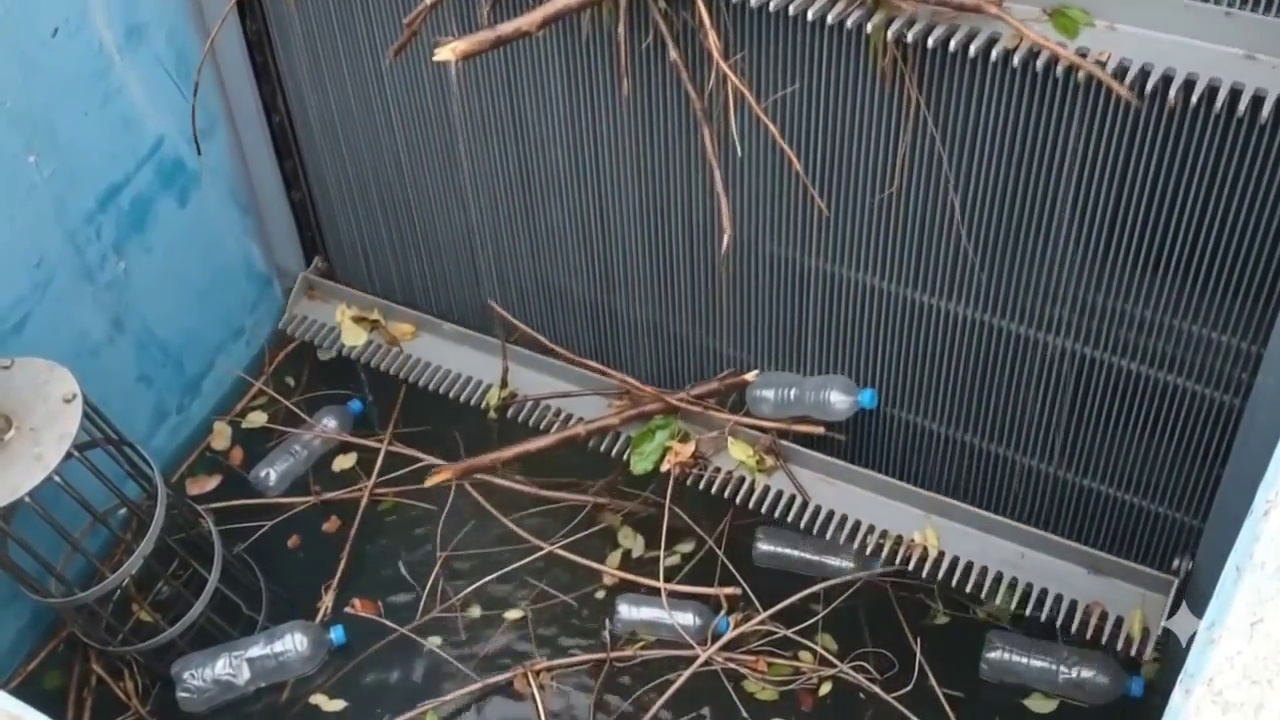debris: (424, 305, 841, 485), (637, 1, 843, 266), (171, 621, 346, 711), (250, 398, 364, 497), (752, 527, 880, 577), (610, 593, 733, 641)
